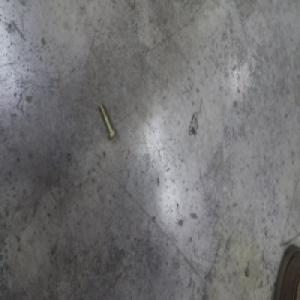Bolt: (99, 101, 117, 141)
